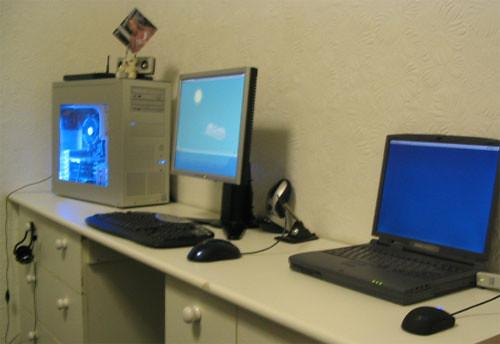computer: (286, 124, 500, 311), (51, 78, 173, 208), (170, 66, 258, 229)
